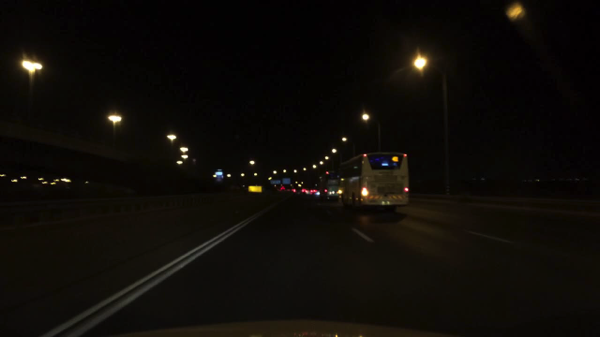bus: (338, 149, 412, 212), (317, 167, 339, 199)
car: (299, 184, 316, 197), (272, 182, 286, 194), (286, 183, 298, 196)
traffic sign: (214, 170, 224, 183), (247, 186, 263, 193)
